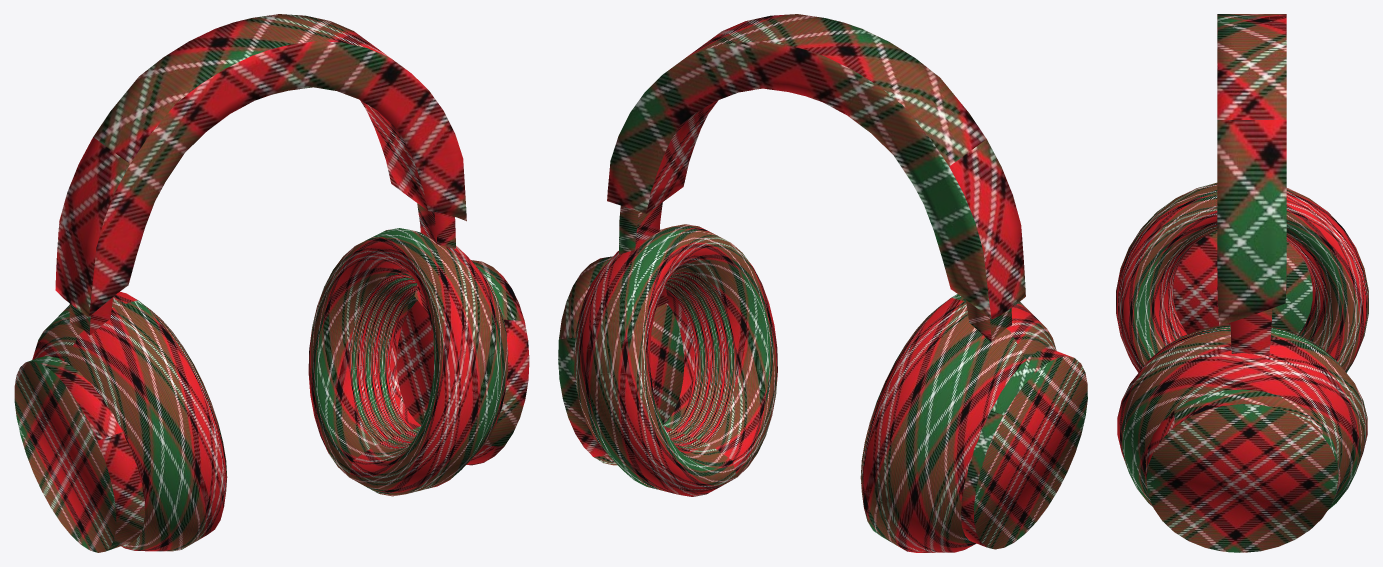
Rendered from Wrapped 5.fbx.
The picture shows the model from 3 angles, left to right: view 1: azimuth 30°, elevation 25°; view 2: azimuth 150°, elevation 25°; view 3: azimuth 270°, elevation 25°; orthographic projection. The views are drawn at different scales.
Parts seen in each view (by area): view 1: Text.003; view 2: Text.003; view 3: Text.003.
Boxes of the visible parts, x1,y1,x2,y2 form: Text.003: (14, 14, 529, 552); Text.003: (558, 14, 1087, 552); Text.003: (1116, 14, 1368, 552).
Bounding box in the file's own units: 300 × 306 × 157.
1 material, 1 textured.
